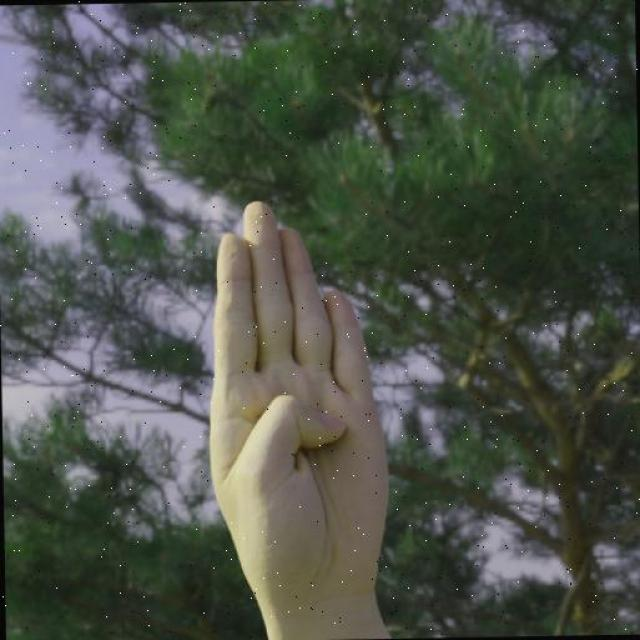B: (197, 198, 399, 600)
